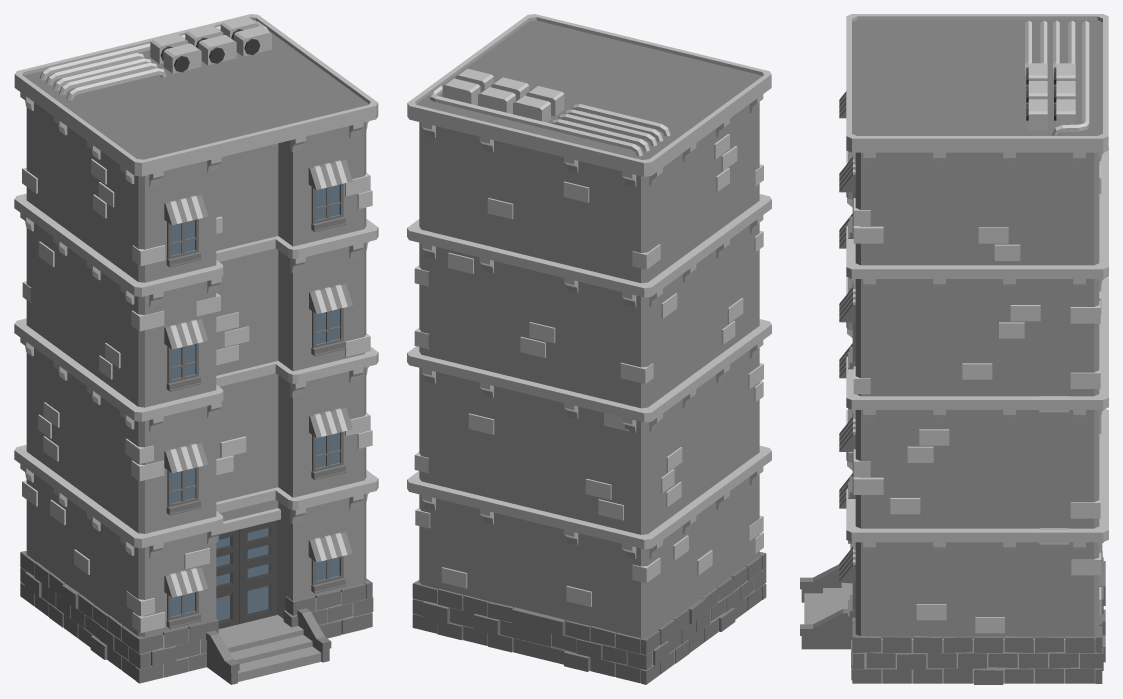
The model's file is qtb_4story_center.fbx.
The picture shows the model from 3 angles, left to right: view 1: azimuth 30°, elevation 25°; view 2: azimuth 150°, elevation 25°; view 3: azimuth 270°, elevation 25°; orthographic projection. The views are drawn at different scales.
Parts seen in each view (by area): view 1: qtb_4story_center_LOD0; view 2: qtb_4story_center_LOD0; view 3: qtb_4story_center_LOD0.
Part boxes in pixels (x1,y1,x2,y2): qtb_4story_center_LOD0: [14, 14, 378, 684]; qtb_4story_center_LOD0: [407, 14, 771, 684]; qtb_4story_center_LOD0: [800, 14, 1108, 684].
Size of what is drawn, in the model's own units: 6.54 by 13.75 by 6.84.
